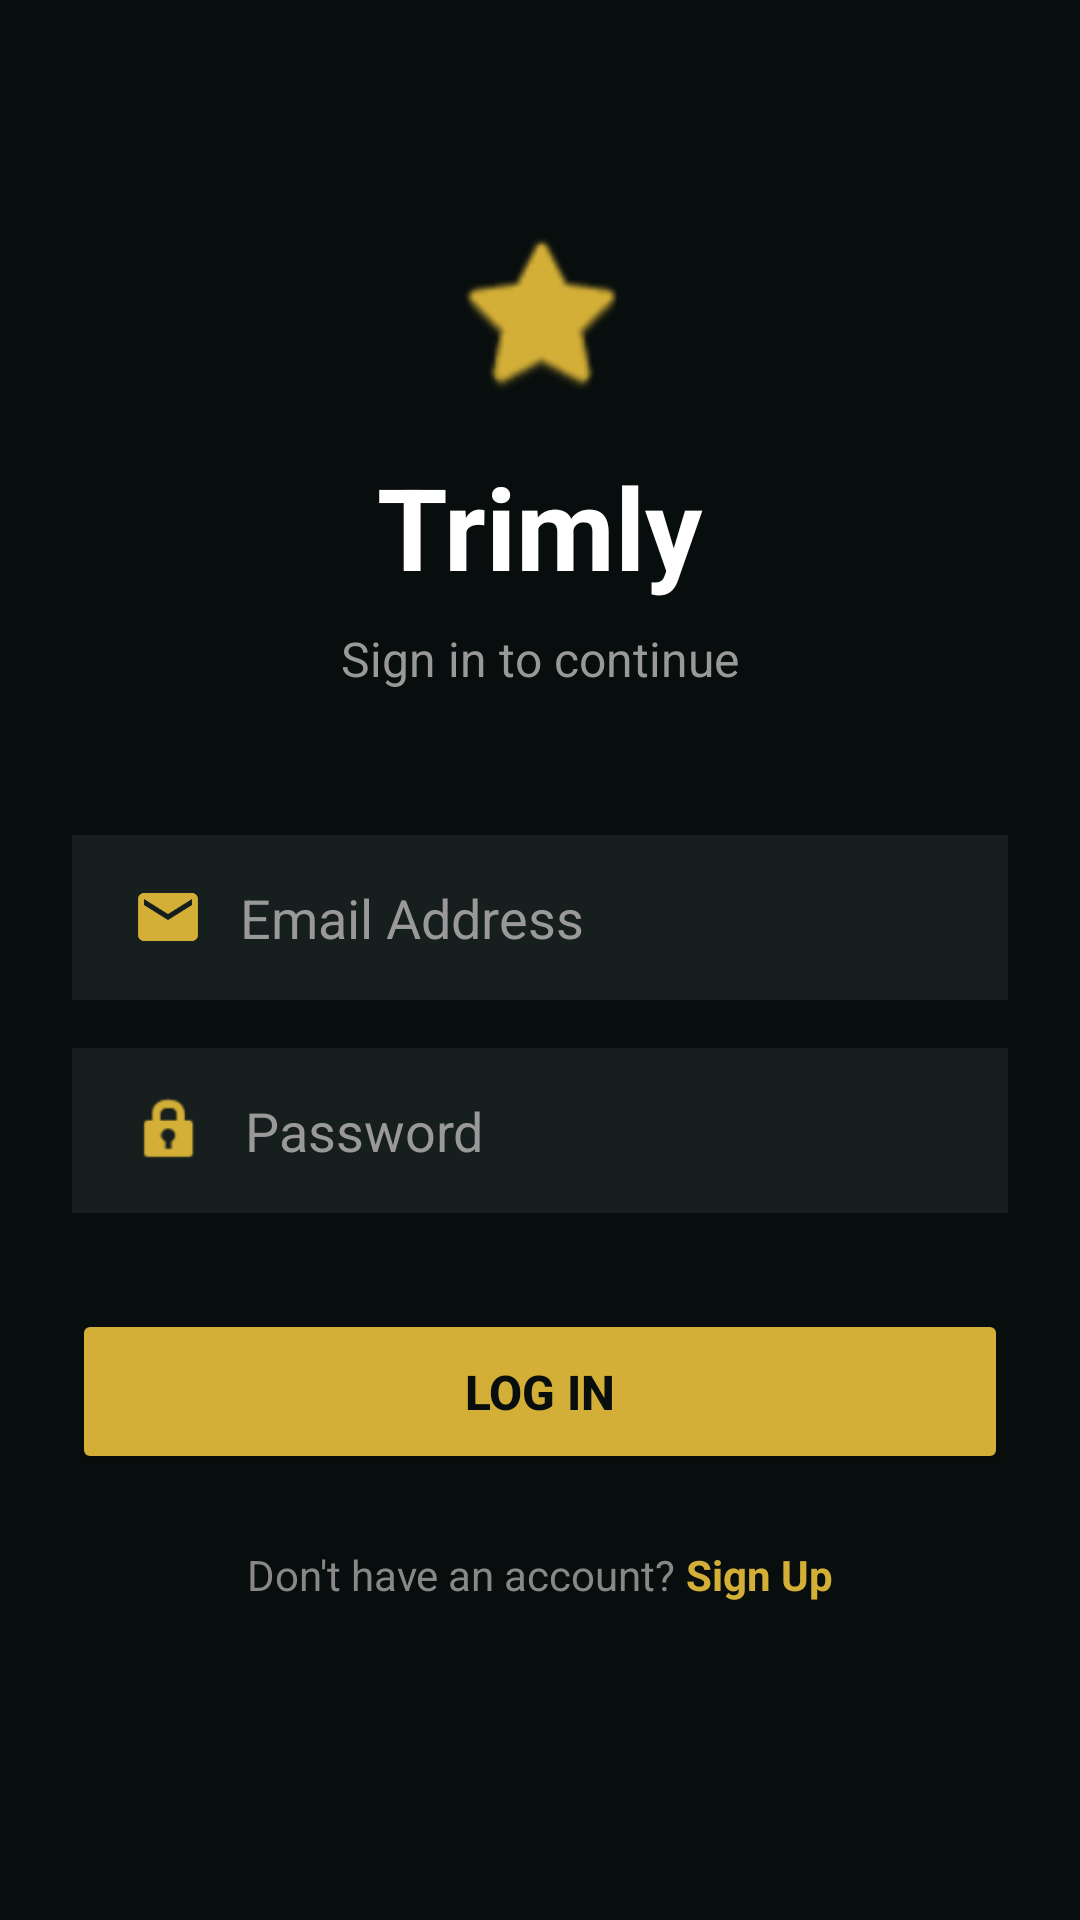

Named icons in this screenshot (1080*1920) and their bounding boxes, (x1, y1, x2, y2):
star on: (466, 240, 617, 386)
